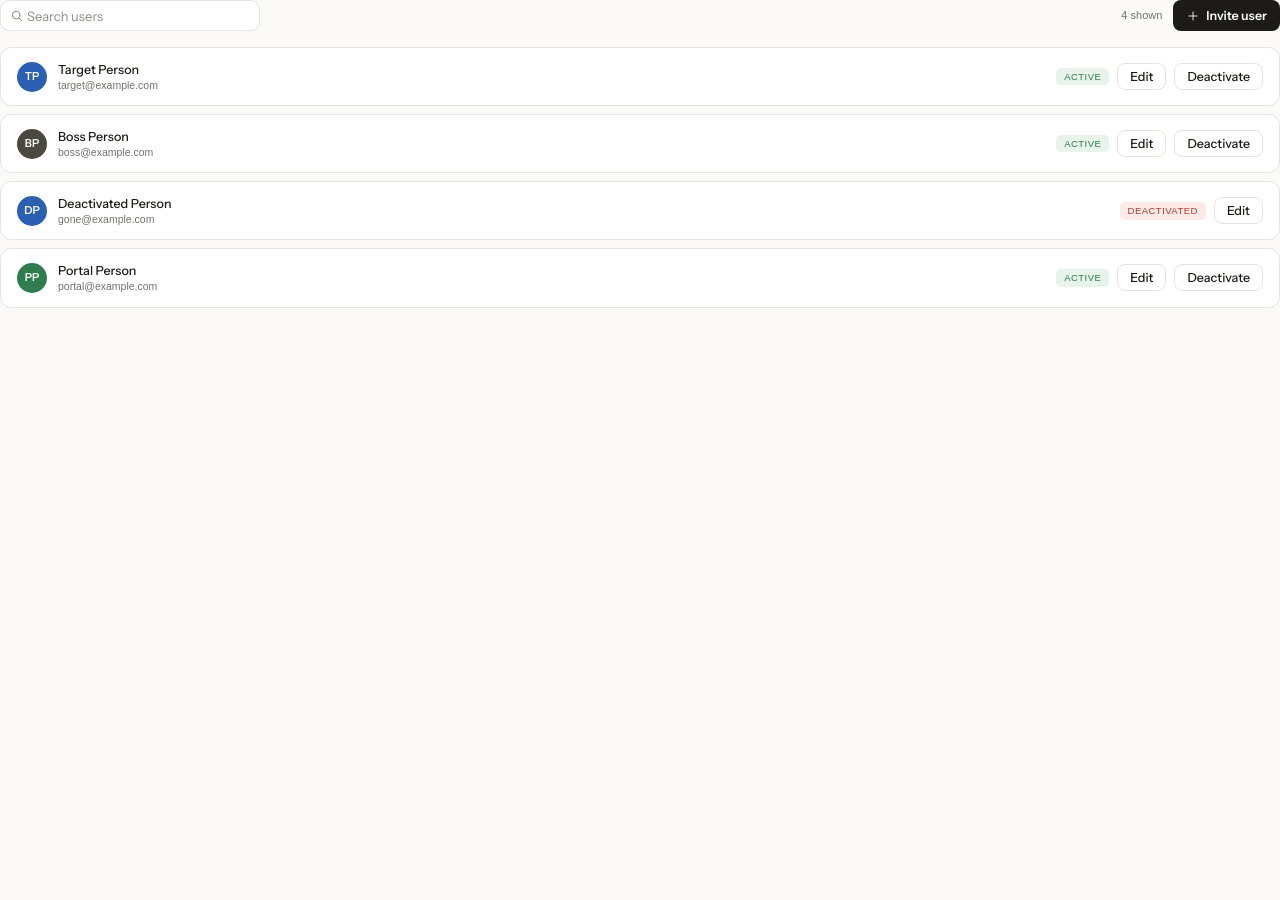
it: UsersPage manager picker › shows the server's problem detail when the manager is out of scope (404)
Step 1. Click the button with aria-label "Edit Target Person" → x=1142, y=77, box [1117, 63, 1166, 90]
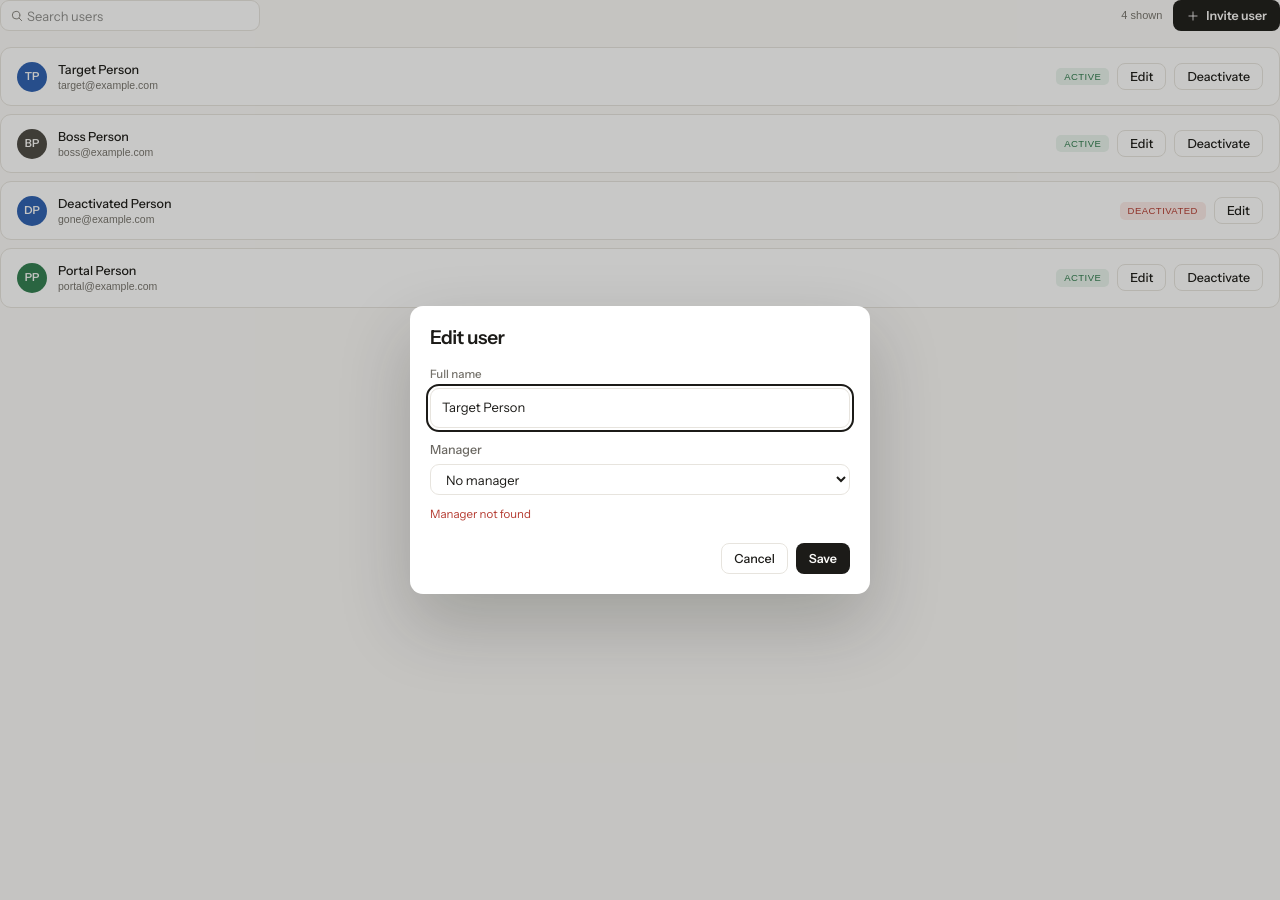
Now the message reads "Manager not found", box [430, 508, 531, 522]
